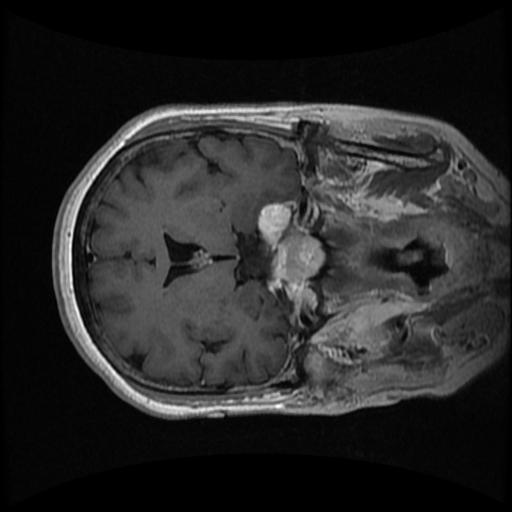meningioma: (256, 203, 291, 252)
